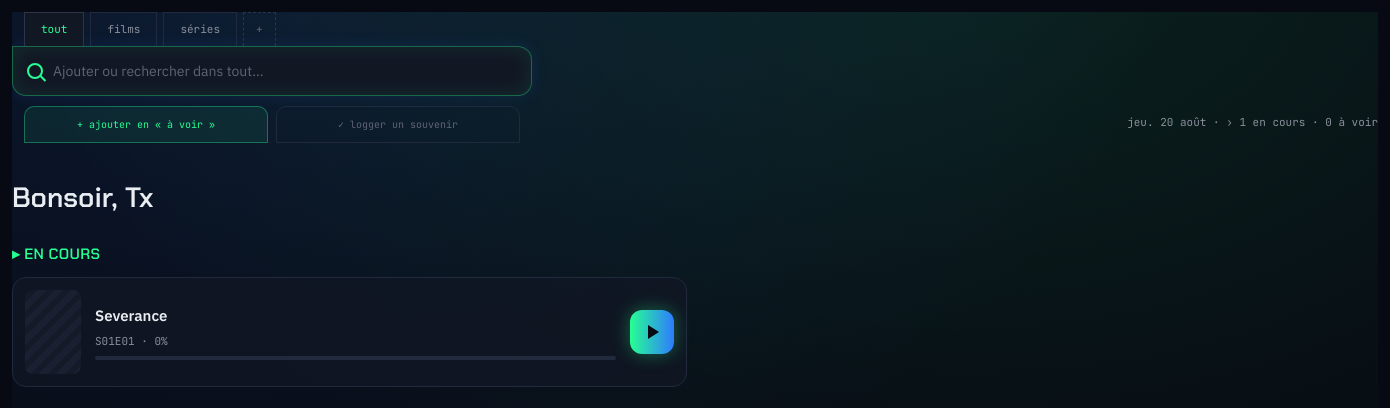
Test: bouton play › avance d un episode et fait suivre le label, tout de suite
Expected: the text "S01E01 · 0%" is shown, x1=95 y1=334 x2=168 y2=348
Click the button named "Avancer Severance".
click(652, 332)  # box x1=630 y1=310 x2=674 y2=354
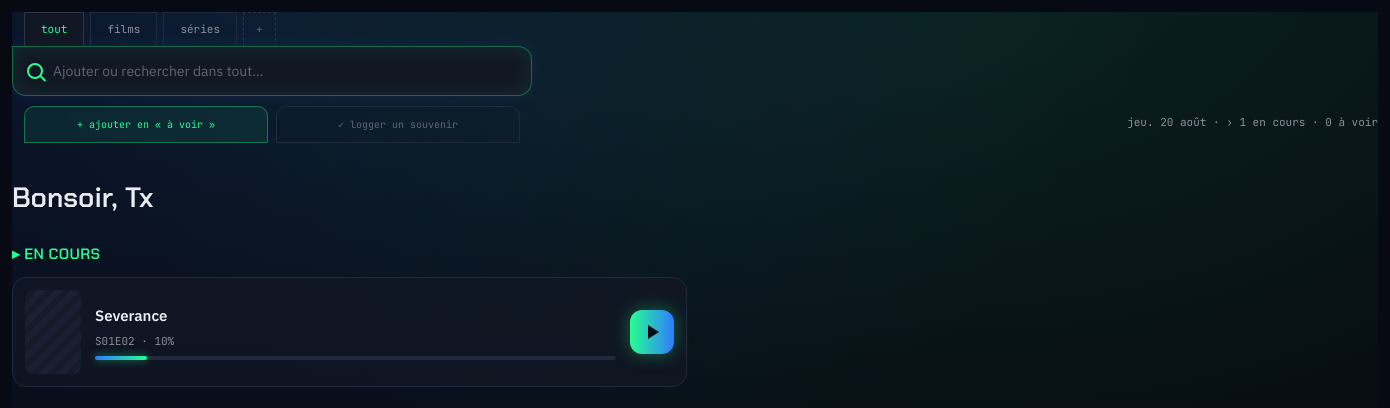
Now the text "S01E02 · 10%" is shown, box x1=95 y1=334 x2=174 y2=348
